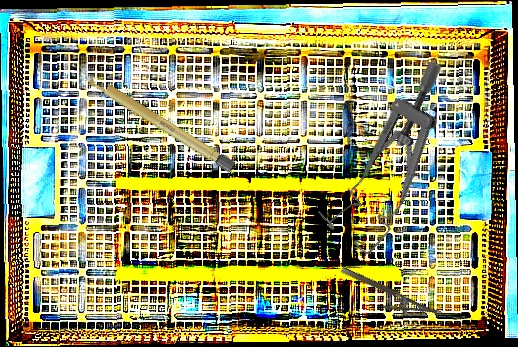Needle Holder: (334, 265, 443, 332)
Scalpel Handle: (80, 68, 238, 175)
Speculum: (302, 58, 494, 260)
